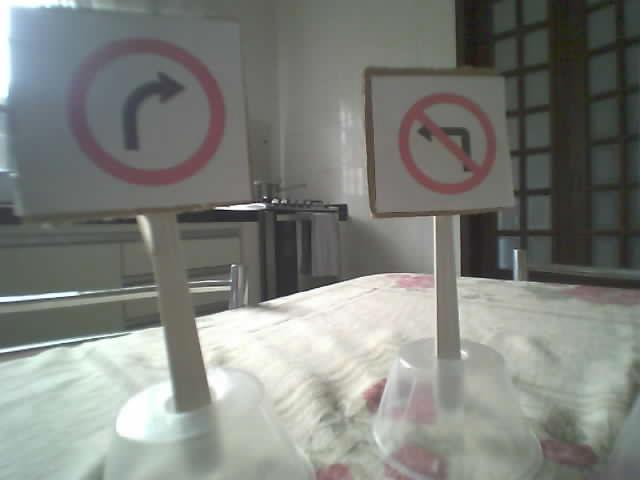R-25b_direita: (68, 37, 222, 186)
R-4a_proibido-esquerda: (397, 92, 496, 193)
